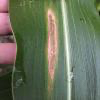Corn leaf blight: (12, 0, 97, 99)
